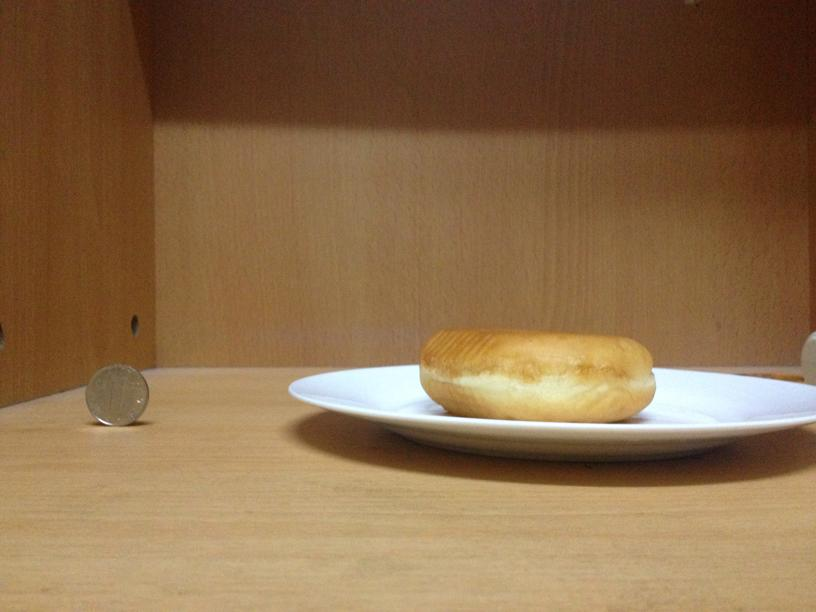coin: (83, 363, 149, 425)
doughnut: (415, 328, 656, 419)
